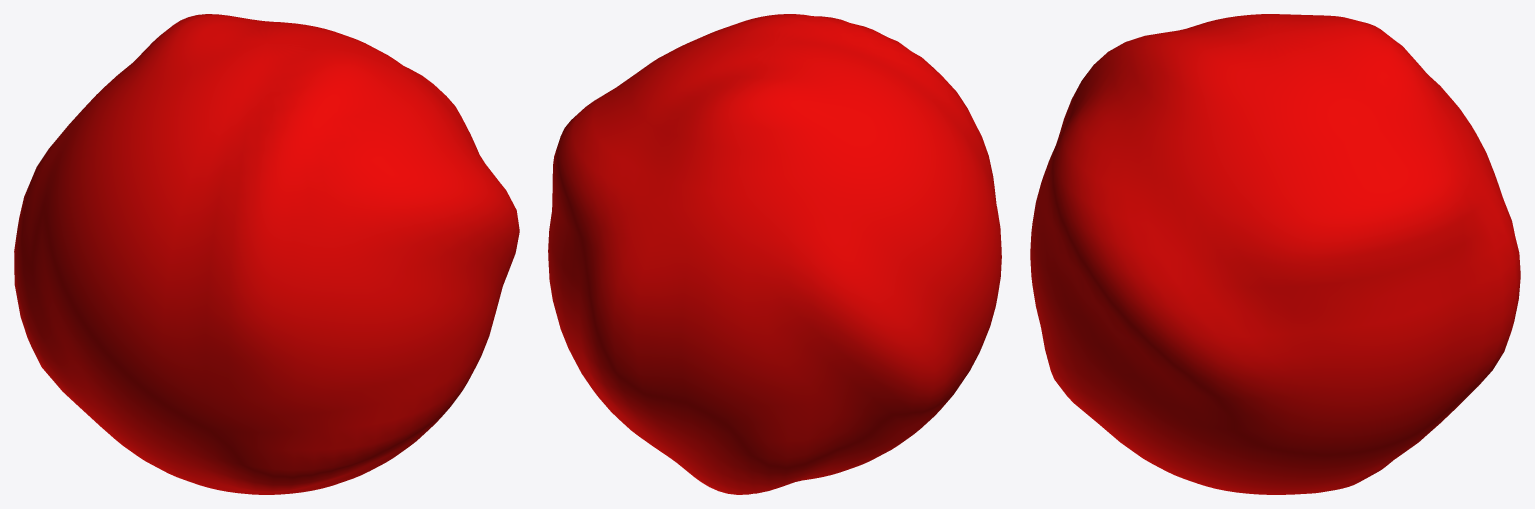
The model's file is Planet Part 2.fbx.
3 renders of one model, left to right at view 1: azimuth 30°, elevation 25°; view 2: azimuth 150°, elevation 25°; view 3: azimuth 270°, elevation 25°, orthographic. The views are drawn at different scales.
Visible parts, largest first — view 1: Sphere; view 2: Sphere; view 3: Sphere.
Boxes of the visible parts, left/top/right/bottom form: Sphere: left=14, top=14, right=519, bottom=494; Sphere: left=548, top=14, right=1001, bottom=494; Sphere: left=1030, top=14, right=1520, bottom=494.
Size of the model in its own units: 2019 by 2006 by 2024.
